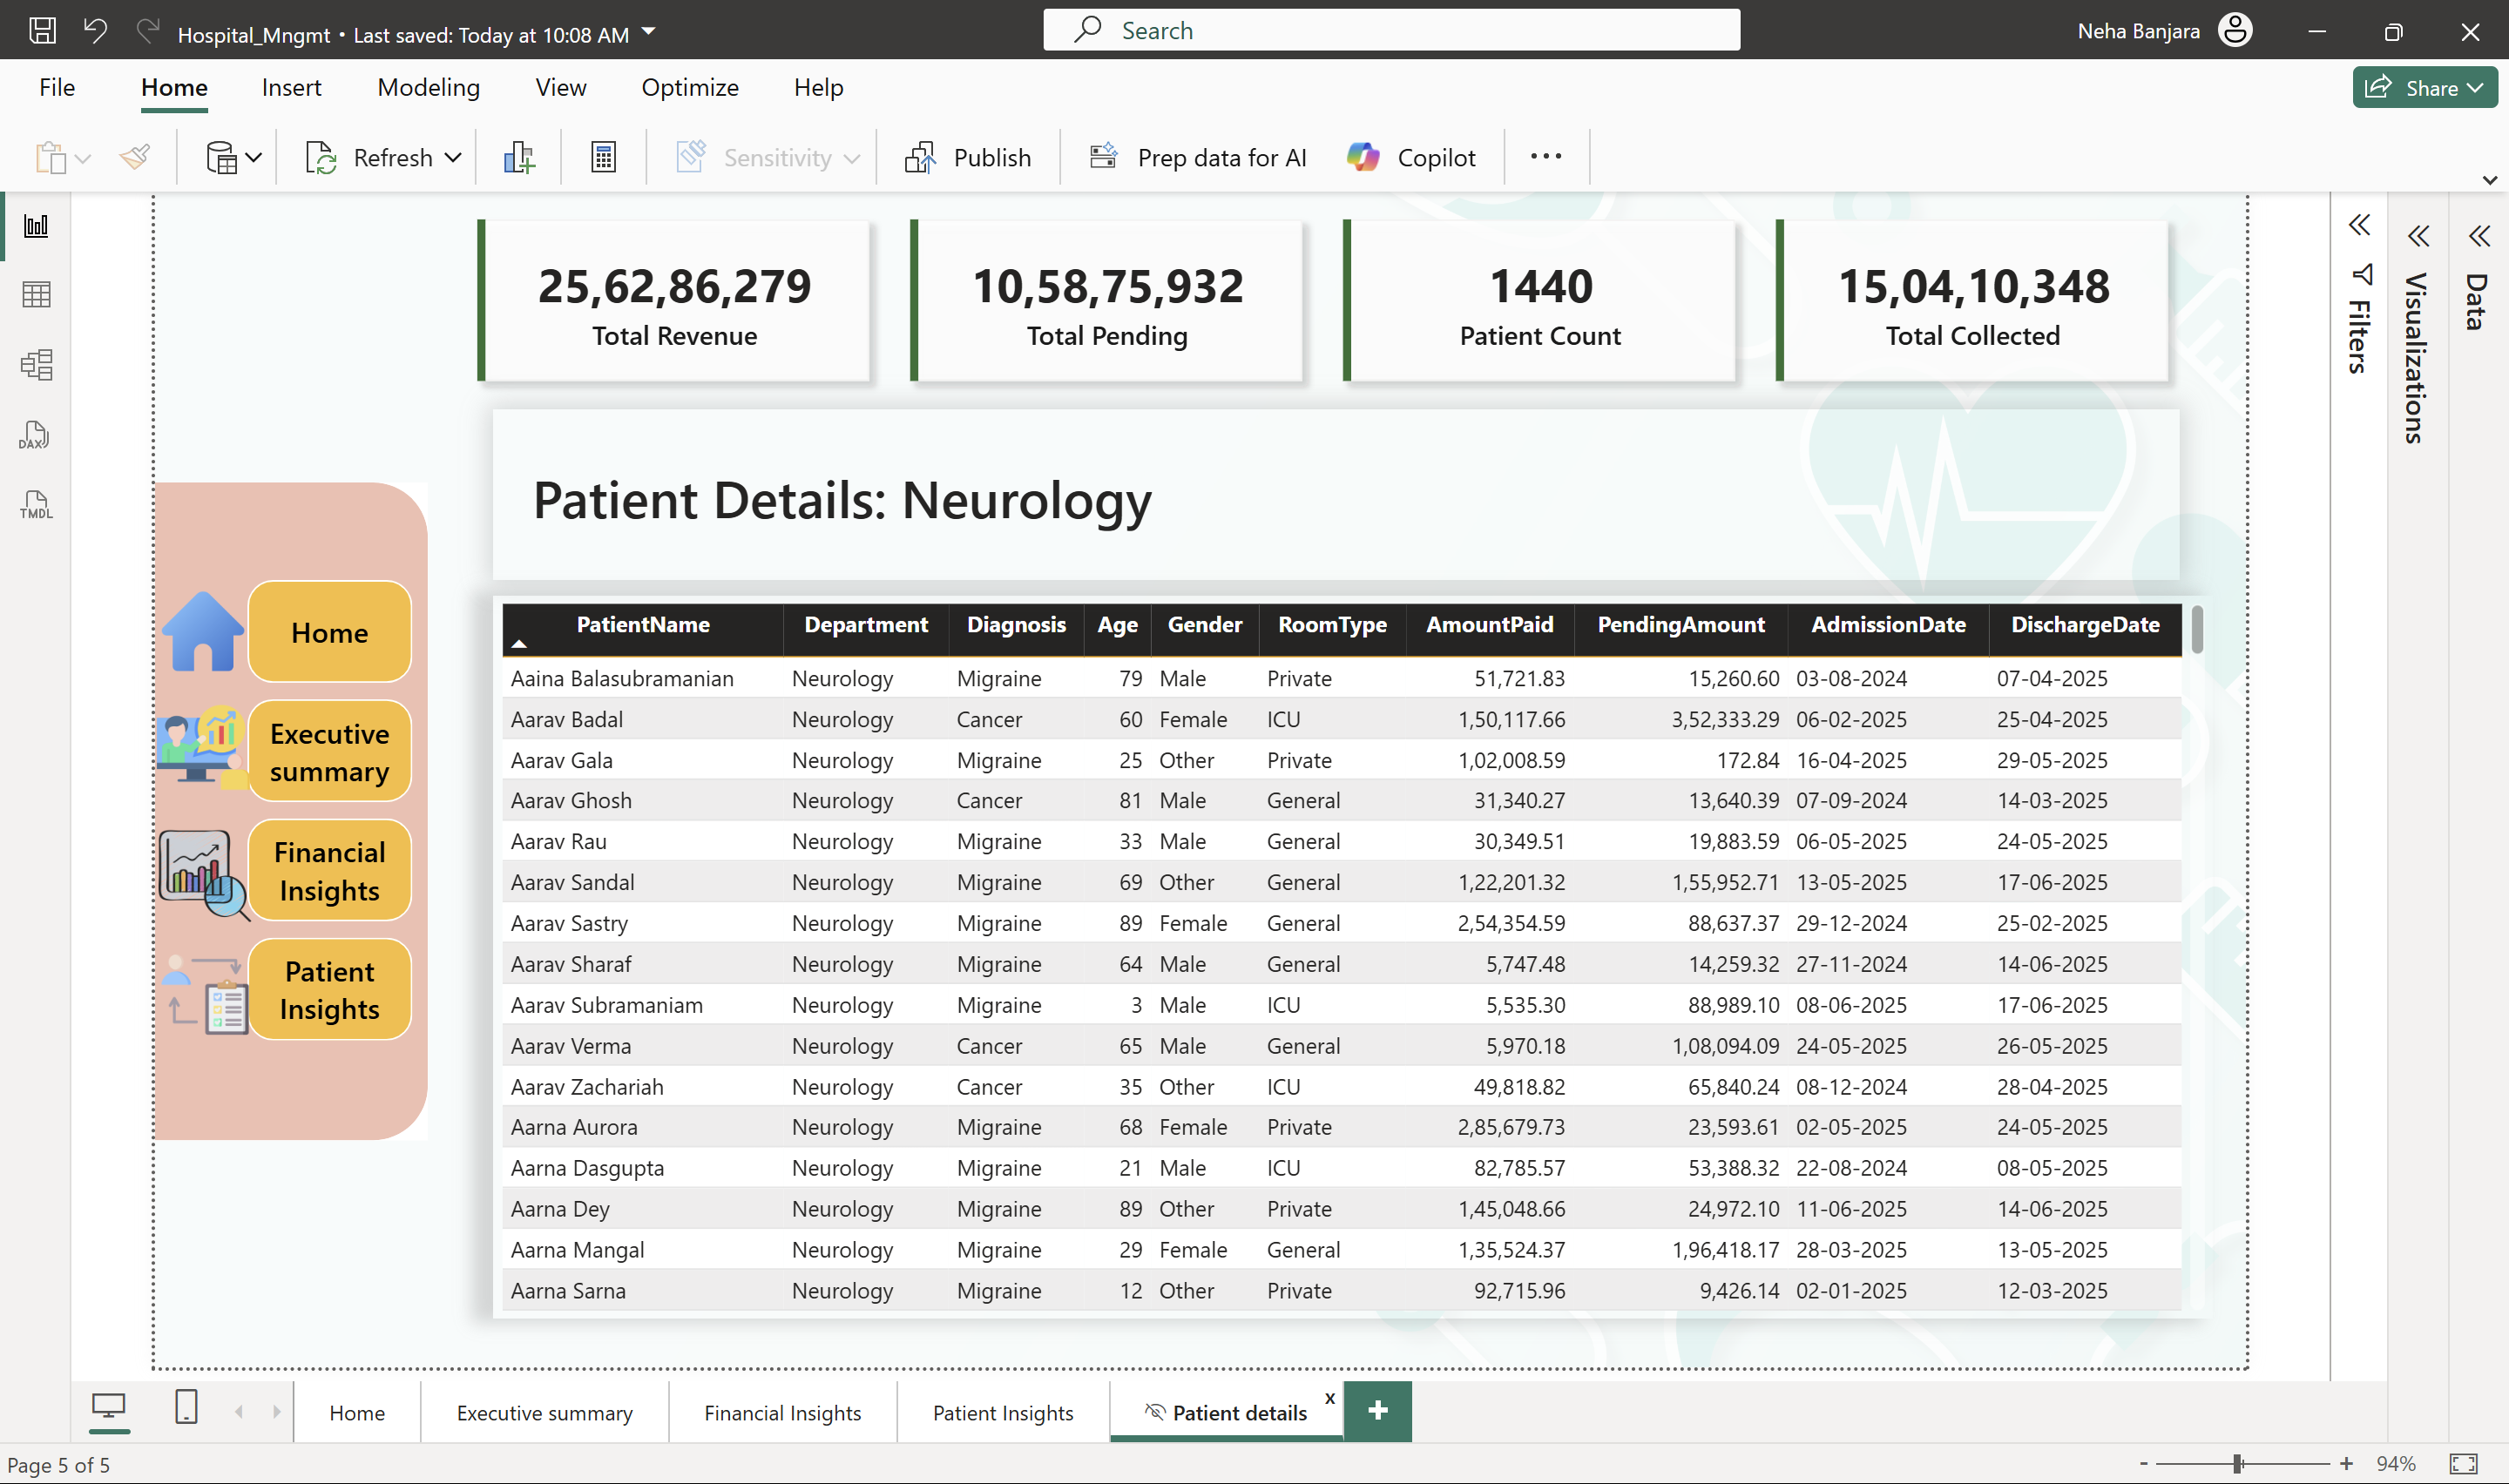

This screenshot's page, from the dashboard's own definition file:
{"tool":"powerbi","page":{"name":"Patient details","canvas":[1280,720],"ordinal":4},"visuals":[{"type":"cardVisual","fields":{"Data":["Measures_table.Total Revenue","Measures_table.Total Pending","Measures_table.Patient Count","Measures_table.Total Collected"]},"box":[179.8,0,1069.6,133.9],"z":0},{"type":"shape","box":[0,178.5,167,402.9],"z":1000,"group":"g1"},{"type":"tableEx","fields":{"Values":["hospital_management.PatientName","hospital_management.Department","hospital_management.Diagnosis","hospital_management.Age","hospital_management.Gender","hospital_management.RoomType","hospital_management.AmountPaid","hospital_management.PendingAmount","hospital_management.AdmissionDate","hospital_management.DischargeDate"]},"box":[206.5,247.3,1053.1,442.4],"z":1000},{"type":"cardVisual","fields":{"Data":["Measures_table.PageTitle"]},"box":[206.5,133.9,1032.7,104.5],"z":2000},{"type":"group","id":"g1","title":"Group 3","box":[0,178.5,167,402.9],"z":3000},{"type":"group","id":"g2","title":"Group 2","box":[1,238.3,156.8,285.6],"z":7000,"group":"g1"},{"type":"pageNavigator","box":[56.7,238.3,101,285.6],"z":13000,"group":"g2"},{"type":"image","box":[1,309.7,56.9,62.3],"z":14000,"group":"g2"},{"type":"image","box":[2.2,244.4,54.6,50.1],"z":15000,"group":"g2"},{"type":"image","box":[2.2,461.6,56.9,62.3],"z":16000,"group":"g2"},{"type":"image","box":[2.2,388.7,56.9,62.3],"z":17000,"group":"g2"}]}

Visuals, with their boxes on the page's 1280x720 design canvas (x1, y1, x2, y2). These are canvas units, not pixel positions in the 2509x1484 screenshot, which may show the page scaled, cropped or inside an application window:
cardVisual - Measures_table.Total Revenue x Measures_table.Total Pending: [180, 0, 1249, 134]
shape: [0, 178, 167, 581]
tableEx - hospital_management.PatientName x hospital_management.Department: [206, 247, 1260, 690]
cardVisual - Measures_table.PageTitle: [206, 134, 1239, 238]
"Group 3" group: [0, 178, 167, 581]
"Group 2" group: [1, 238, 158, 524]
pageNavigator: [57, 238, 158, 524]
image: [1, 310, 58, 372]
image: [2, 244, 57, 294]
image: [2, 462, 59, 524]
image: [2, 389, 59, 451]
